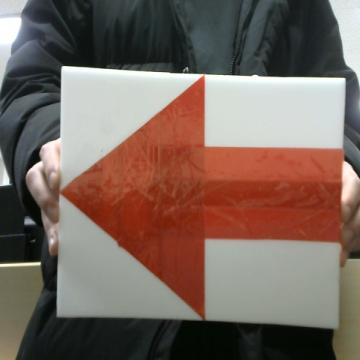red_left: (61, 76, 342, 317)
